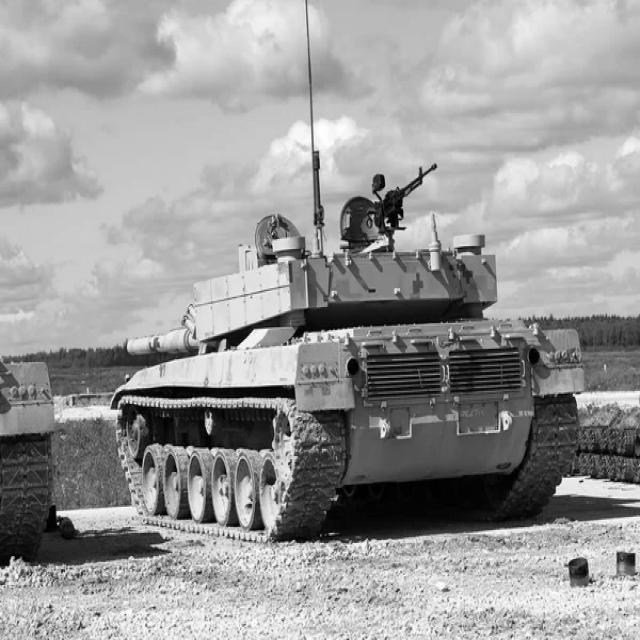Tank: (113, 160, 592, 546)
